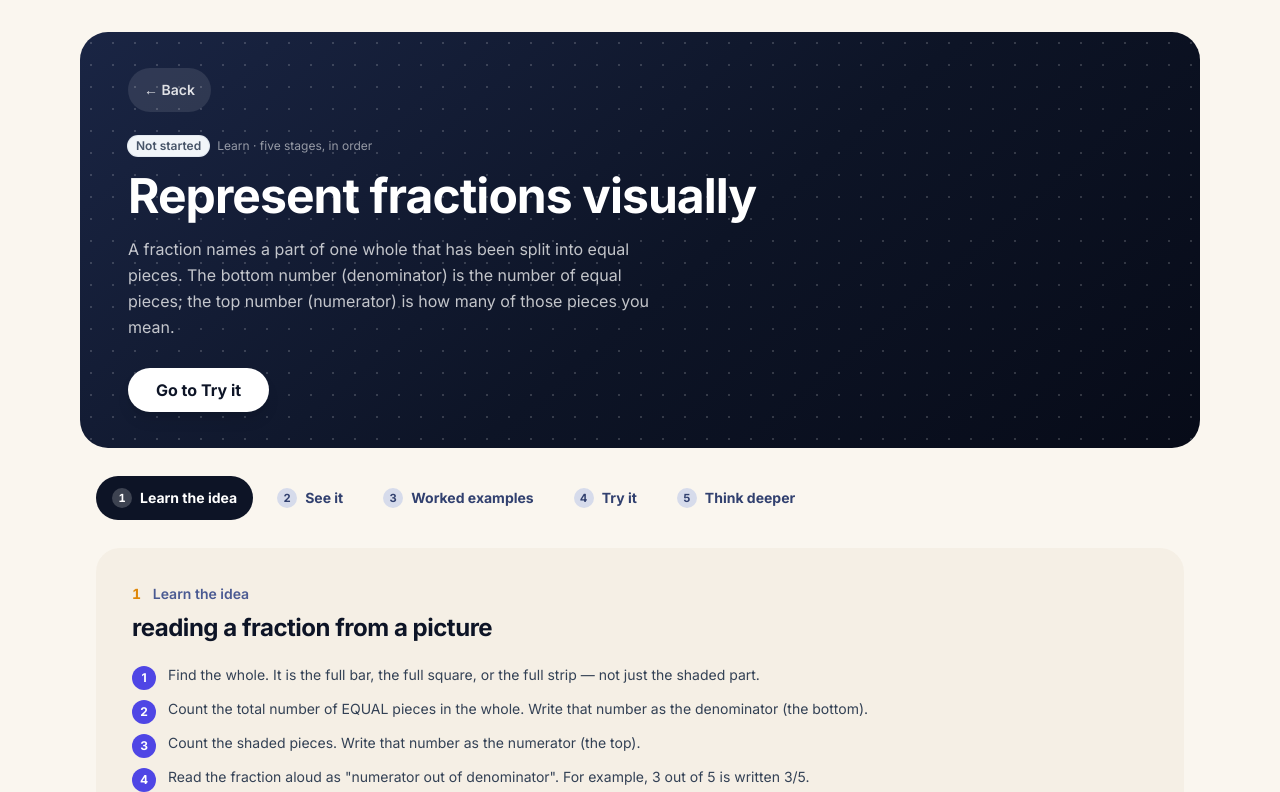
Test case: §5/§6 the standard five-stage model › keeps the authored misconceptions, beside the worked examples
What coordinates should you click on to do the following:
click the button "3 Worked examples"
I would click on:
 (458, 498)
Its box is left=367, top=476, right=550, bottom=520.
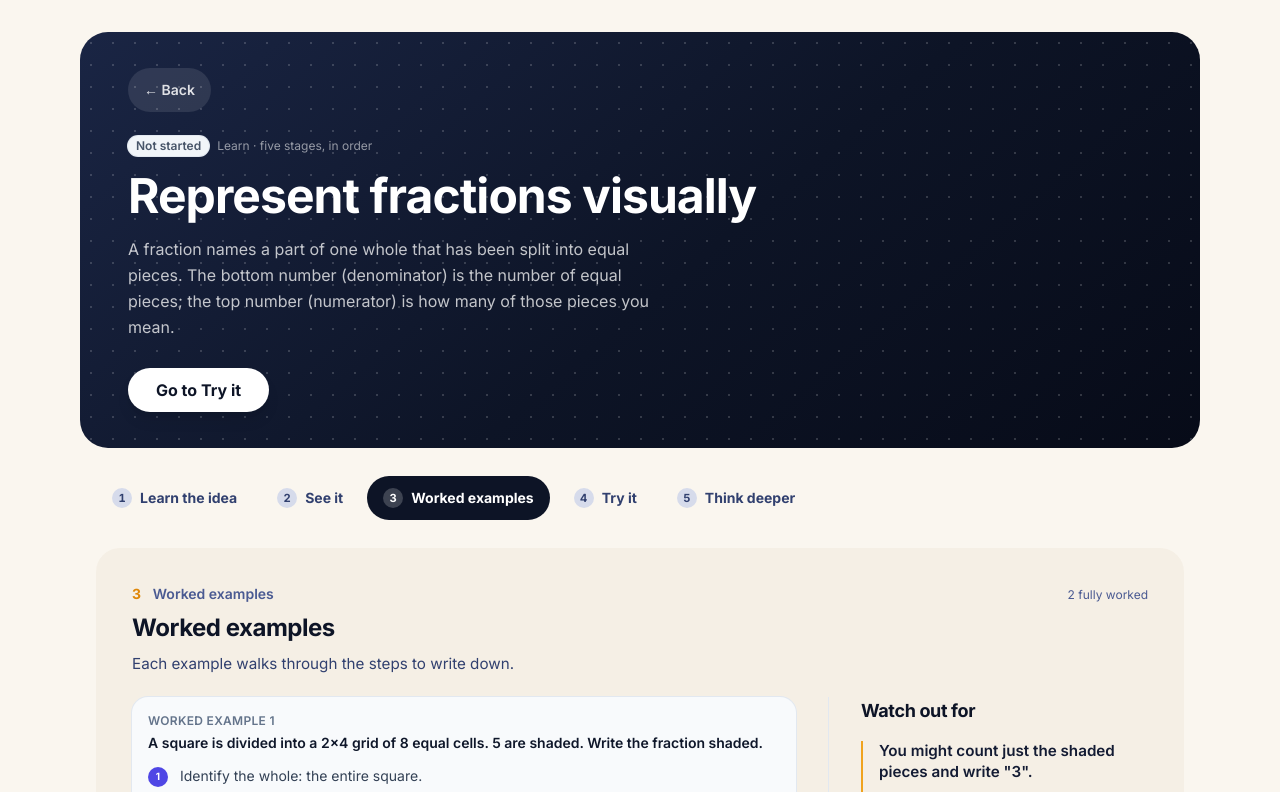
Expected: the heading "Watch out for" is shown, left=861, top=700, right=975, bottom=721
Expected: the text "Try this:" is shown 3 times
